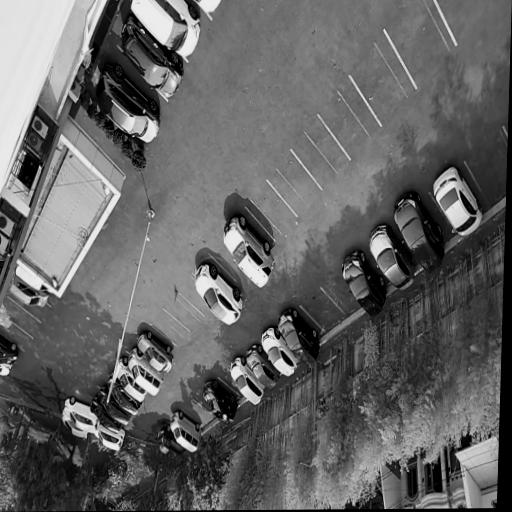Car: (92, 50, 171, 151), (114, 6, 192, 106), (388, 185, 454, 278), (129, 0, 210, 72), (219, 209, 280, 294), (426, 161, 487, 243), (364, 217, 422, 297), (337, 247, 394, 321), (191, 259, 248, 329), (273, 305, 325, 371), (258, 325, 301, 378), (227, 353, 267, 408), (127, 346, 166, 399), (135, 329, 178, 376), (200, 378, 242, 426), (242, 342, 283, 390), (112, 354, 149, 404), (104, 372, 144, 418), (95, 382, 134, 427), (167, 409, 205, 454), (8, 272, 53, 307), (90, 392, 124, 434), (63, 396, 100, 434), (154, 425, 186, 461), (189, 0, 228, 24), (94, 425, 128, 452), (61, 407, 89, 439), (0, 335, 22, 365), (0, 364, 15, 378)
Space Available: (348, 31, 418, 129), (382, 0, 457, 91), (317, 75, 382, 162), (290, 114, 352, 191), (266, 151, 322, 217), (464, 129, 508, 209), (247, 181, 298, 242), (433, 0, 499, 45), (299, 289, 347, 334), (0, 295, 41, 337), (163, 293, 205, 333), (322, 274, 360, 318), (151, 308, 190, 347), (7, 291, 50, 323), (209, 243, 243, 283), (0, 312, 33, 352), (179, 283, 210, 317), (182, 400, 214, 429), (217, 372, 245, 401), (193, 395, 217, 420)
